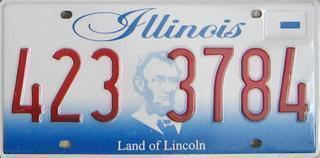placa de veiculo: (7, 1, 312, 144)
